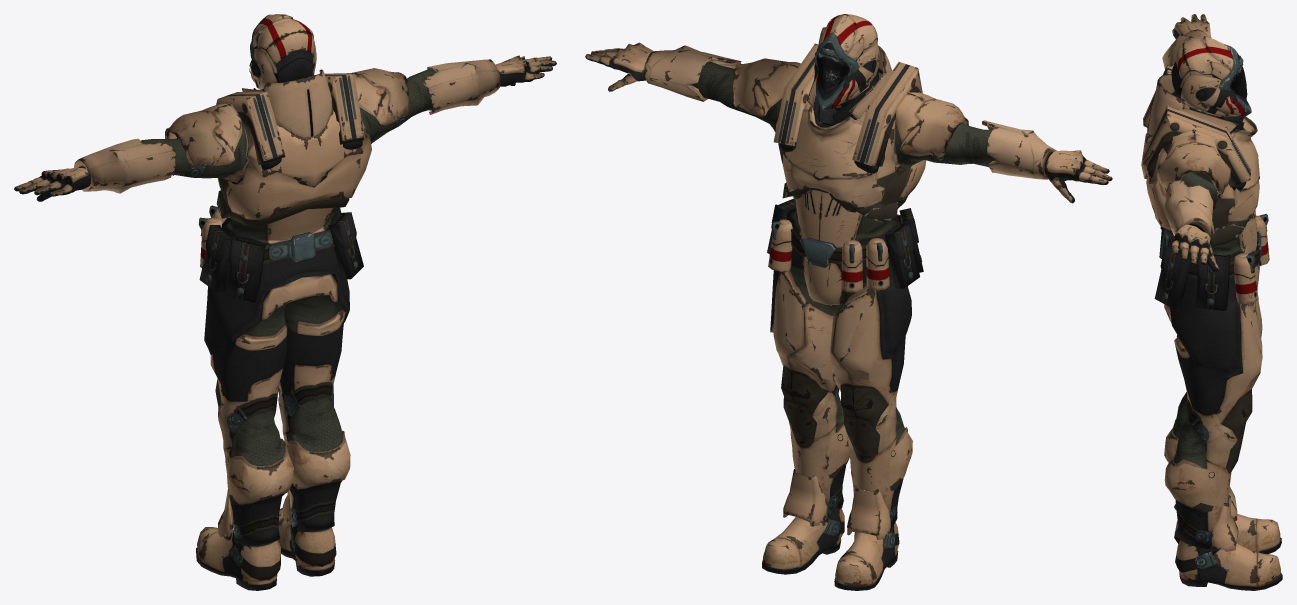
The model's file is Soldier.glb.
3 renders of one model, left to right at view 1: azimuth 30°, elevation 25°; view 2: azimuth 150°, elevation 25°; view 3: azimuth 270°, elevation 25°, orthographic. The views are drawn at different scales.
Parts seen in each view (by area): view 1: vanguard_Mesh; view 2: vanguard_Mesh, vanguard_visor; view 3: vanguard_Mesh, vanguard_visor.
Boxes of the visible parts, left/top/right/bottom form: vanguard_Mesh: left=14, top=14, right=556, bottom=590; vanguard_Mesh: left=585, top=14, right=1112, bottom=590; vanguard_visor: left=816, top=54, right=849, bottom=93; vanguard_Mesh: left=1141, top=14, right=1282, bottom=590; vanguard_visor: left=1229, top=66, right=1247, bottom=99.
Bounding box in the file's own units: 1.85 × 1.83 × 0.4439.
2 materials, 2 textured.
